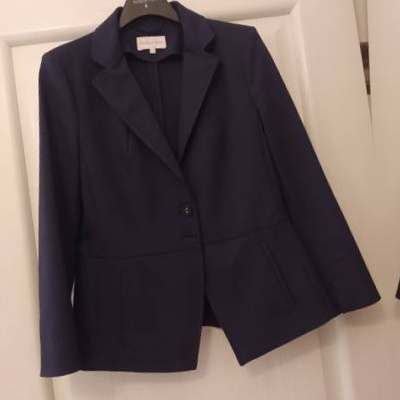Blazer: (10, 0, 387, 393), (367, 0, 400, 359)
